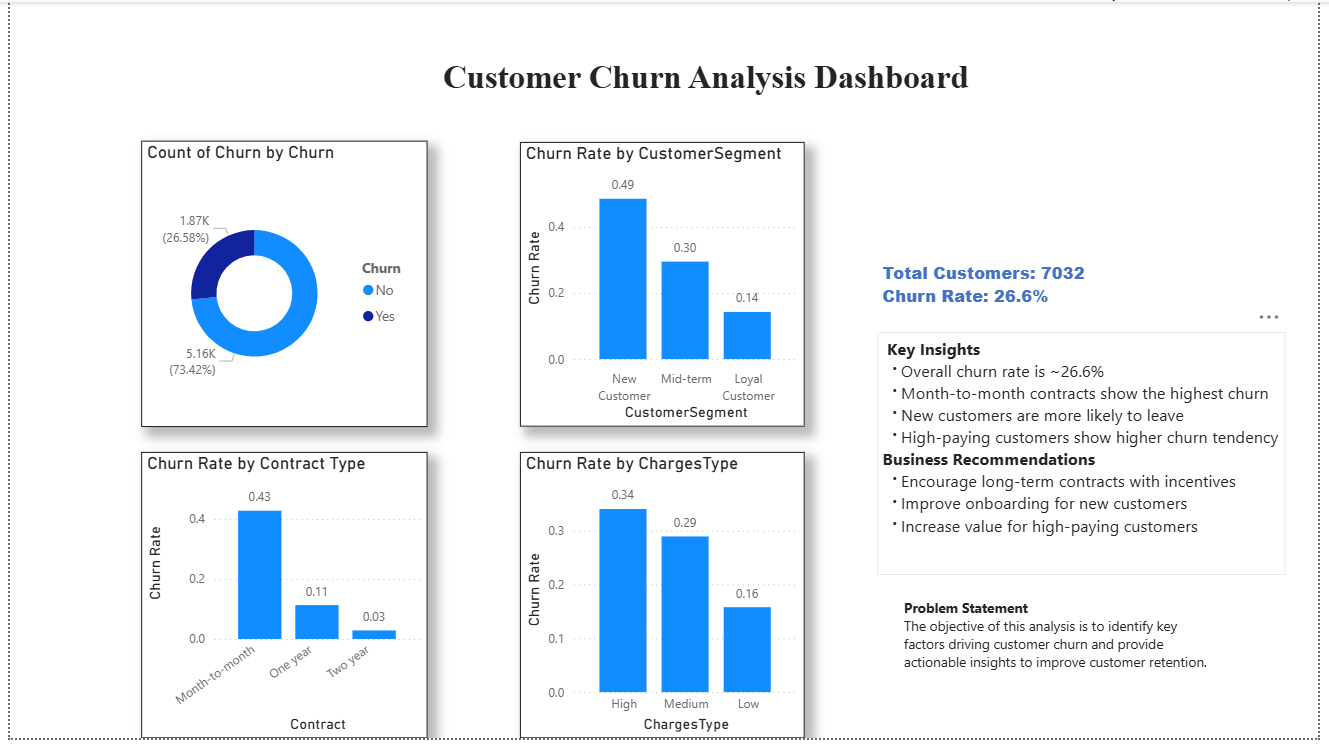

Layout of this report page (visuals, bound fields, positions):
{"tool":"powerbi","page":{"name":"Page 1","canvas":[1280,720],"ordinal":0},"visuals":[{"type":"donutChart","fields":{"Category":["WA_Fn-UseC_-Telco-Customer-Chur.Churn"],"Y":["CountNonNull(WA_Fn-UseC_-Telco-Customer-Chur.Churn)"]},"box":[127.9,135.5,280.1,280.1],"z":0},{"type":"clusteredColumnChart","title":"Churn Rate by Contract Type","fields":{"Category":["WA_Fn-UseC_-Telco-Customer-Chur.Contract"],"Y":["WA_Fn-UseC_-Telco-Customer-Chur.Churn Rate"]},"box":[127.9,440,280.1,280.1],"z":1000},{"type":"clusteredColumnChart","fields":{"Category":["WA_Fn-UseC_-Telco-Customer-Chur.CustomerSegment"],"Y":["WA_Fn-UseC_-Telco-Customer-Chur.Churn Rate"]},"box":[499.3,137,278.6,278.6],"z":2000},{"type":"clusteredColumnChart","fields":{"Category":["WA_Fn-UseC_-Telco-Customer-Chur.ChargesType"],"Y":["WA_Fn-UseC_-Telco-Customer-Chur.Churn Rate"]},"box":[499.3,440,278.6,280.1],"z":3000},{"type":"textbox","box":[848.5,322.4,398.4,237.2],"z":4000},{"type":"textbox","box":[848.5,247.9,386.2,57.8],"z":5000},{"type":"textbox","box":[869.3,578.5,318.2,105],"z":6000},{"type":"textbox","box":[127.7,50.2,1107,54.7],"z":7000}]}

Visuals, with their boxes in screenshot pixels (x1, y1, x2, y2), scaled from the page's 1280x720 canvas onto the 1329x748 screenshot:
donutChart - WA_Fn-UseC_-Telco-Customer-Chur.Churn x CountNonNull(WA_Fn-UseC_-Telco-Customer-Chur.Churn): locate(133, 141, 424, 432)
"Churn Rate by Contract Type" clusteredColumnChart: locate(133, 457, 424, 747)
clusteredColumnChart - WA_Fn-UseC_-Telco-Customer-Chur.CustomerSegment x WA_Fn-UseC_-Telco-Customer-Chur.Churn Rate: locate(518, 142, 808, 432)
clusteredColumnChart - WA_Fn-UseC_-Telco-Customer-Chur.ChargesType x WA_Fn-UseC_-Telco-Customer-Chur.Churn Rate: locate(518, 457, 808, 747)
textbox: locate(881, 335, 1295, 581)
textbox: locate(881, 258, 1282, 318)
textbox: locate(903, 601, 1233, 710)
textbox: locate(133, 52, 1282, 109)
